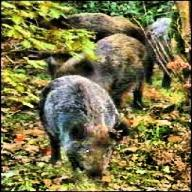boar: (36, 74, 128, 178)
